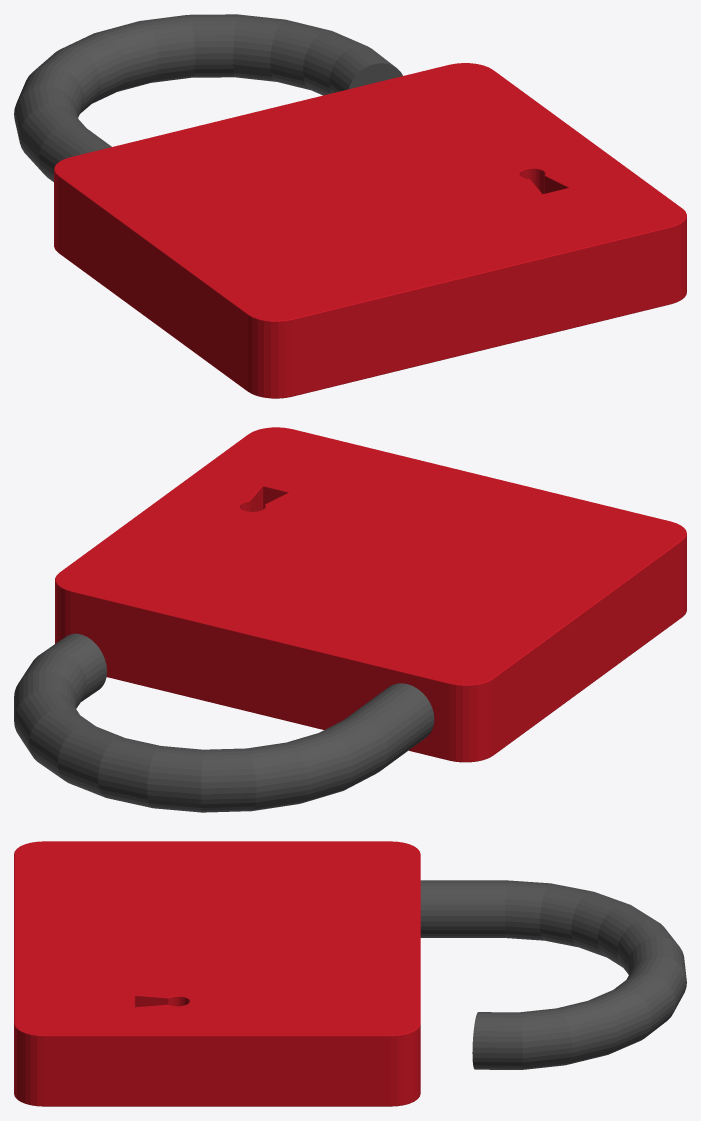
The model's file is lockTwo-no-text.glb.
3 views of the same model, one above another, from view 1: azimuth 30°, elevation 25°; view 2: azimuth 150°, elevation 25°; view 3: azimuth 270°, elevation 25° (orthographic). The views are drawn at different scales.
Visible parts, largest first — view 1: lock face, lock handle; view 2: lock face, lock handle; view 3: lock face, lock handle.
Boxes of the visible parts, x1,y1,x2,y2 form: lock face: (54, 63, 686, 398); lock handle: (14, 14, 402, 181); lock face: (55, 427, 686, 762); lock handle: (14, 633, 434, 812); lock face: (14, 841, 420, 1106); lock handle: (420, 880, 686, 1069).
Bounding box in the file's own units: 5.88 × 1 × 8.61.
